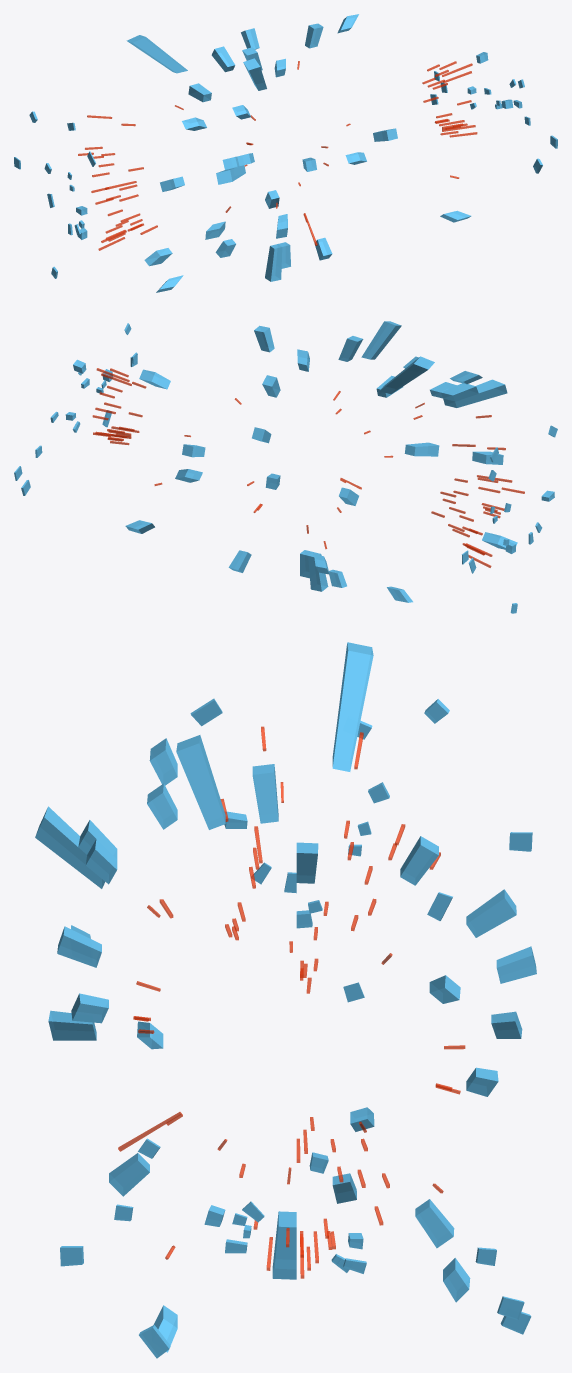
File: Event_402970704_calo.fbx
3 views of the same model, one above another, from view 1: azimuth 30°, elevation 25°; view 2: azimuth 150°, elevation 25°; view 3: azimuth 270°, elevation 25° (orthographic). The views are drawn at different scales.
Visible parts, largest first — view 1: Model; view 2: Model; view 3: Model.
Boxes of the visible parts, x1,y1,x2,y2 form: Model: [14, 14, 557, 292]; Model: [14, 321, 557, 613]; Model: [35, 642, 536, 1358].
Bounding box in the file's own units: 22.65 × 12.65 × 11.16.
